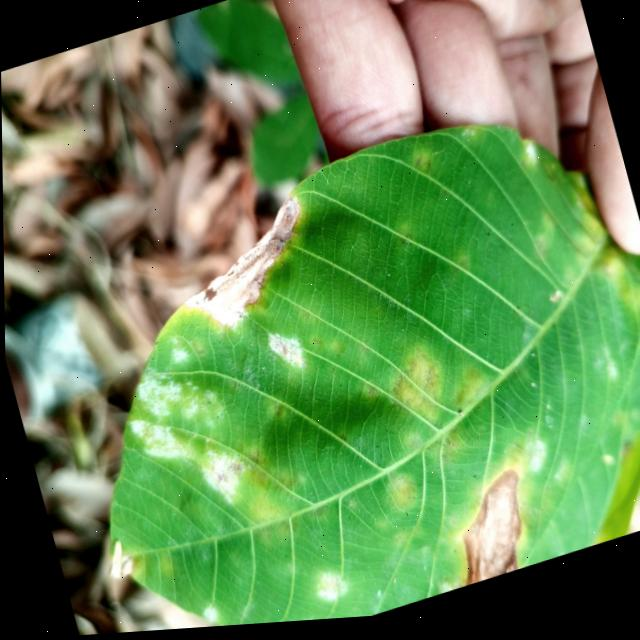Leaf-Blight: (164, 192, 323, 342), (439, 471, 540, 593)
